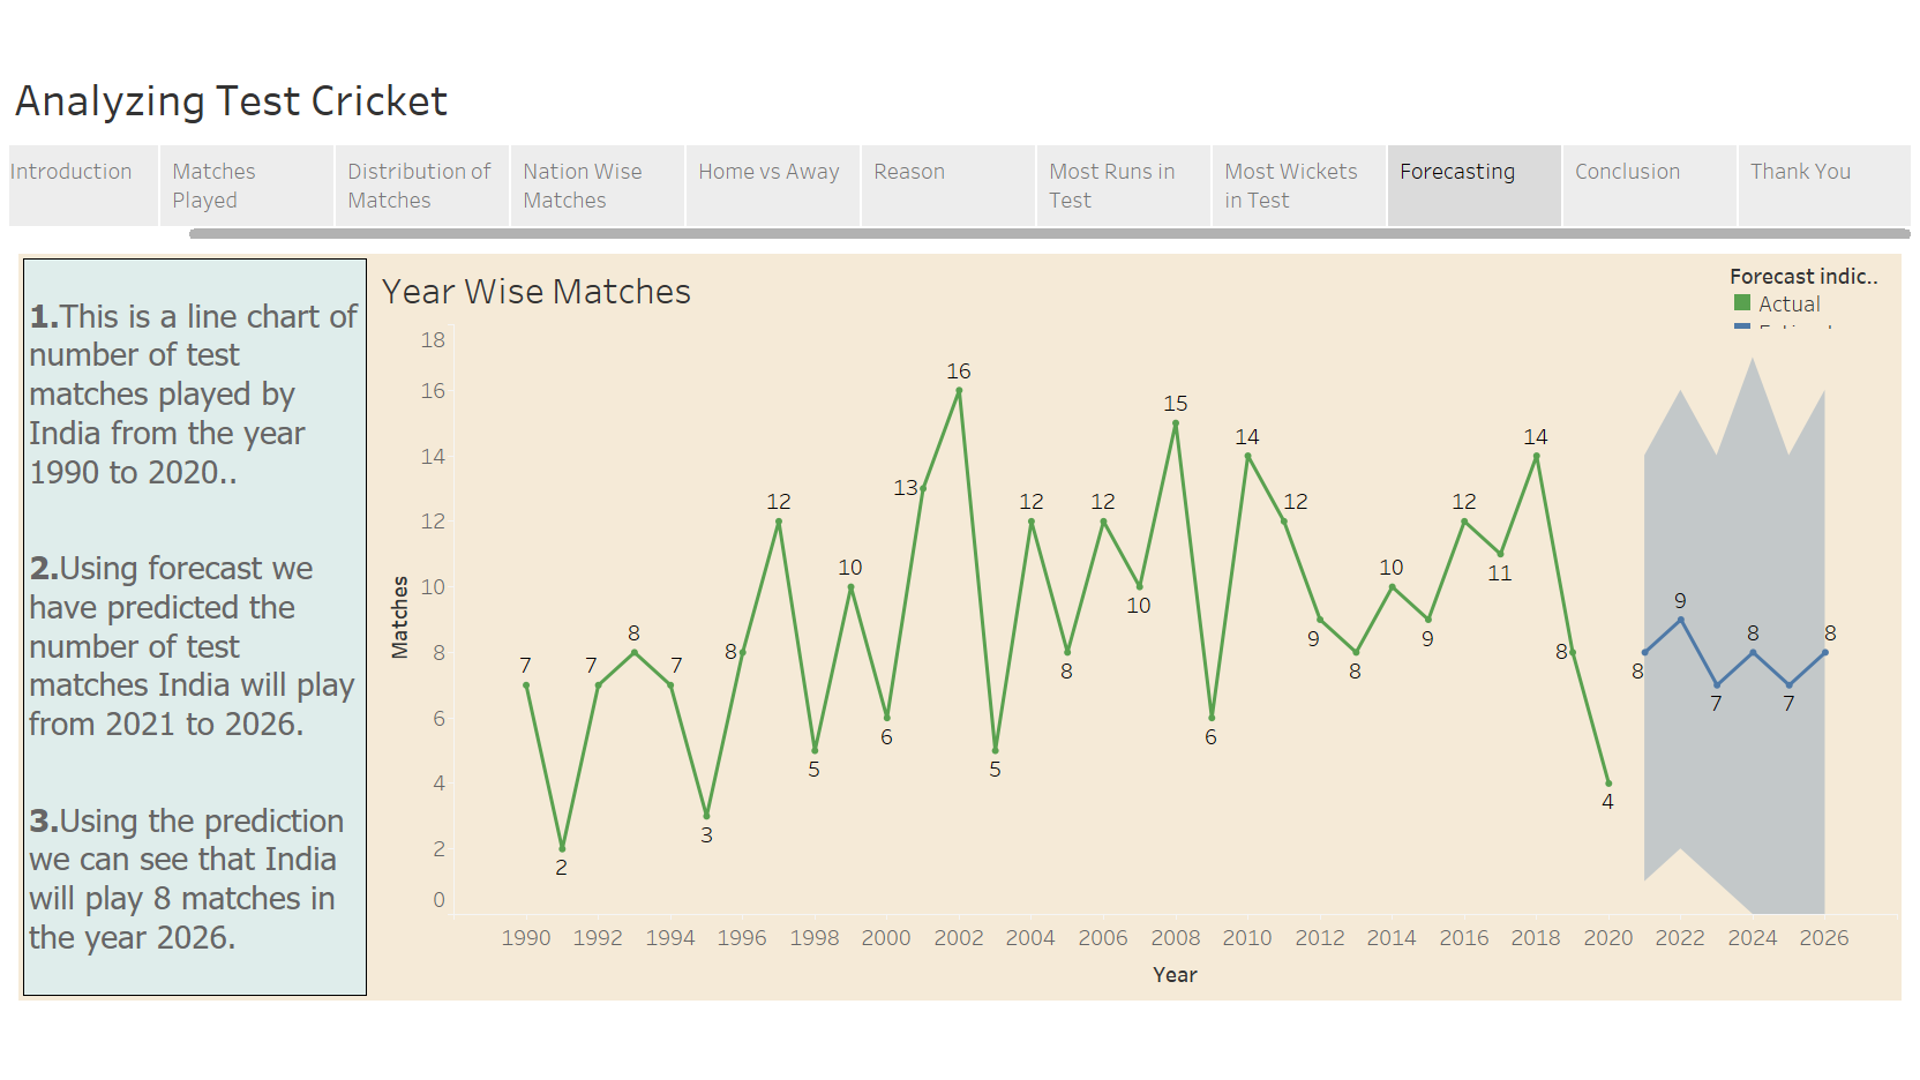

This screenshot's page, from the dashboard's own definition file:
{"tool":"tableau","page":{"name":"Dashboard 12","canvas":[1000,1000],"units":"permille","ordinal":3},"visuals":[{"type":"text","box":[4.8,9.6,185.7,980.7]},{"type":"worksheet","title":"Year Wise Matches","mark":"Line","rows":["Matches"],"cols":["Year"],"box":[190.5,9.6,804.7,980.7]},{"type":"legend","title":"Year Wise Matches","param":"[federated.105cr4o1odgegu11kzly80wnhpwm].[none:Forecast Indicator:nk]","box":[903.9,18.1,84.1,91.6]}]}

Visuals, with their boxes on the dashboard's canvas, which has no fixed pixel size, in thousandths of its width and height (x1, y1, x2, y2). These are canvas units, not pixel positions in the 1920x1080 screenshot, which may show the page scaled, cropped or inside an application window:
text: box(5, 10, 190, 990)
"Year Wise Matches" worksheet (Line marks): box(190, 10, 995, 990)
"Year Wise Matches" legend: box(904, 18, 988, 110)
